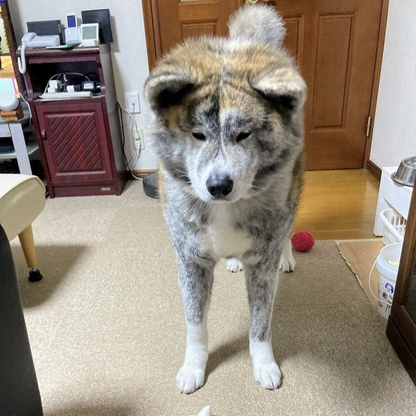akita: (135, 1, 313, 399)
